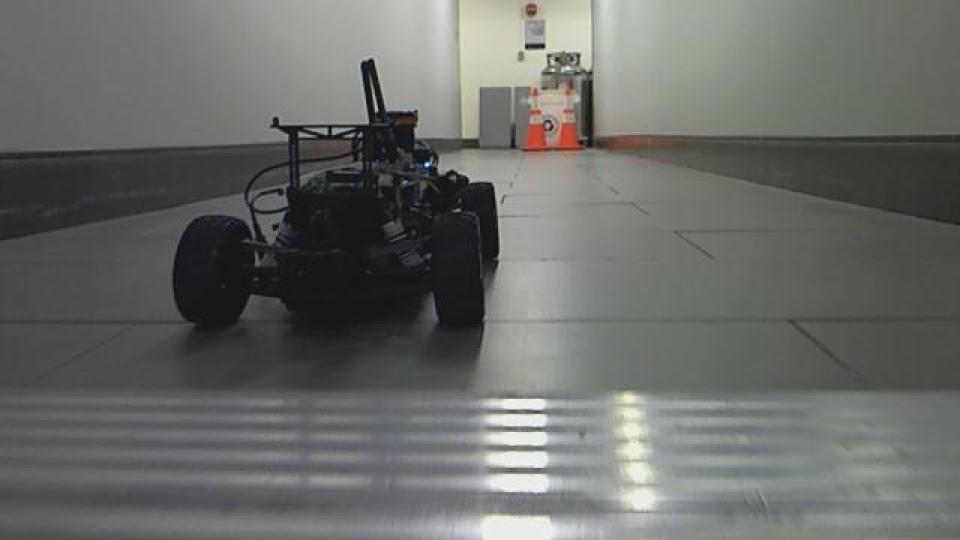car: (168, 55, 502, 334)
